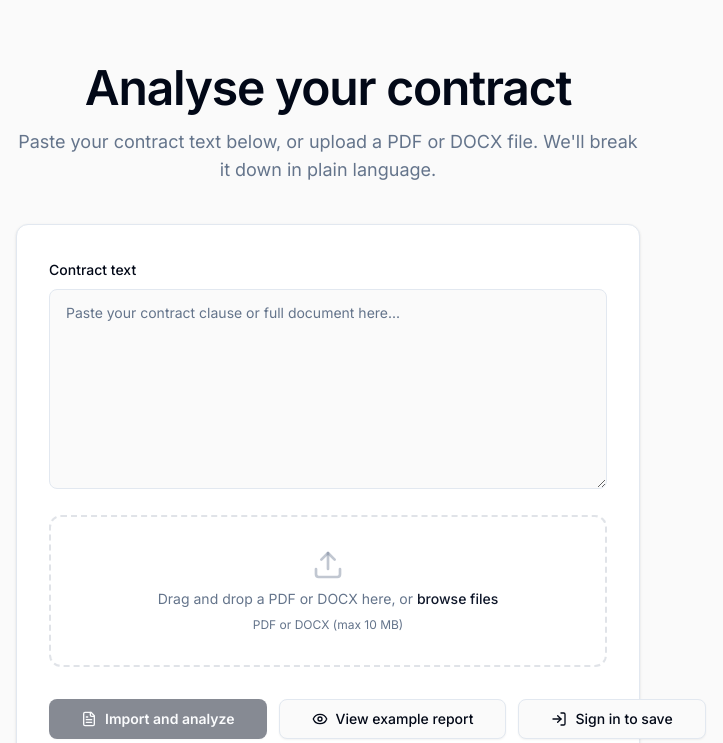
Scenario: Analyze page — truncated document gating › shows section checkboxes for truncated documents
Type "some contract text" into the text box with placeholder "Paste your contract clause or full document here..." at (328, 389), box x1=49 y1=289 x2=607 y2=489
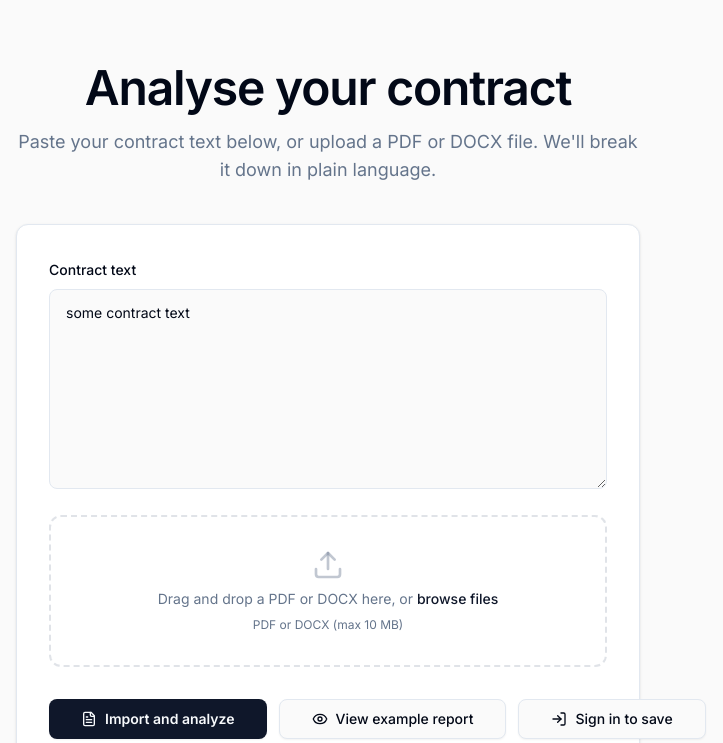
Click the button "Import and analyze" at (158, 719), box x1=49 y1=699 x2=266 y2=739
(page scrolled)
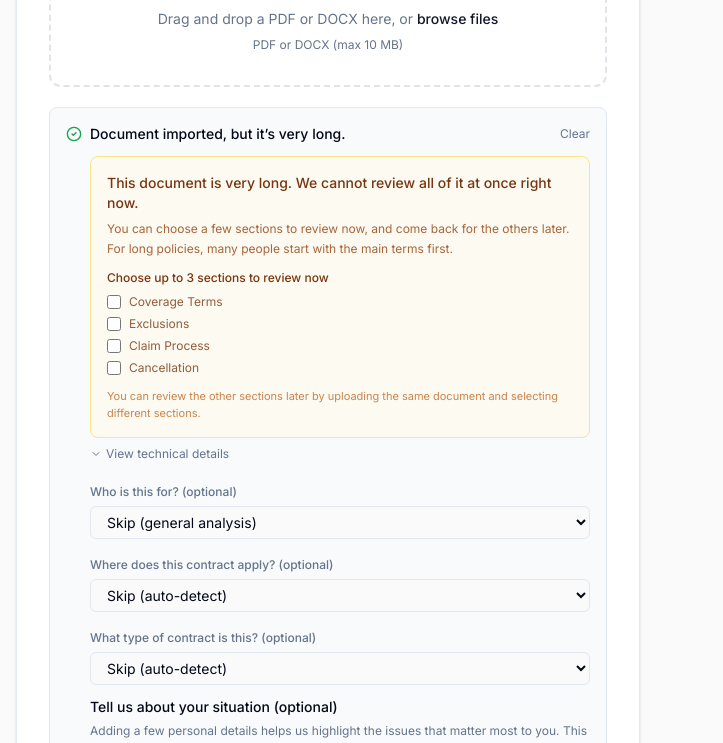
Check: the text "Document imported, but it’s very long." is shown, box x1=90 y1=124 x2=346 y2=144
Check: the text "Coverage Terms" is shown, box x1=129 y1=294 x2=223 y2=310
Check: the text "Exclusions" is shown, box x1=129 y1=316 x2=189 y2=332
